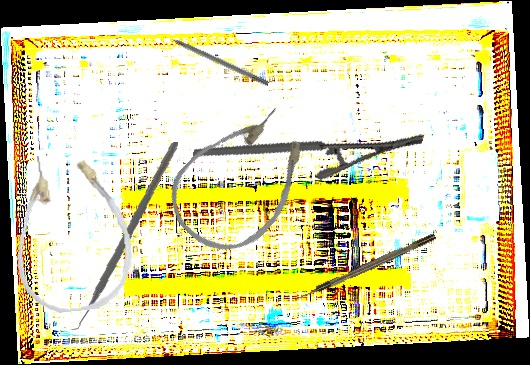Cannula: (152, 89, 333, 271), (7, 147, 137, 317)
Chopper: (47, 142, 191, 331)
Hook Surgical: (293, 233, 437, 303), (160, 30, 270, 87)
Needle Holder: (192, 74, 425, 216)
